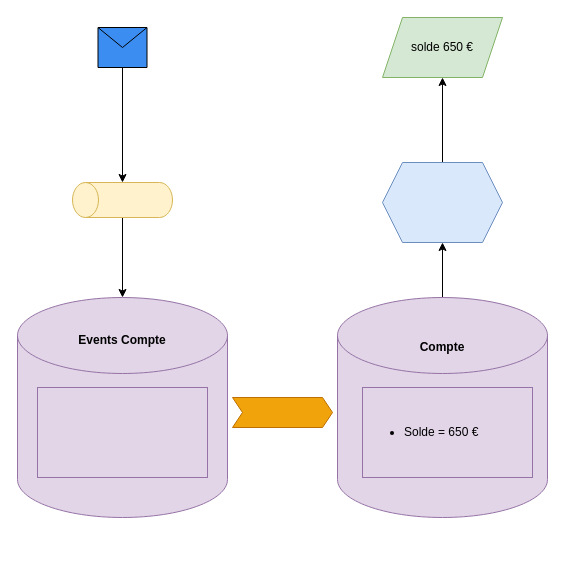
This 565x565 diagram has some shape labels left out. The shapes that lost their labels are listed below. From the top down, each one's box as (x1, y1, x2, y2) in pixels, then its label:
(382, 162, 502, 242): API
(36, 386, 208, 478): Overture compte Dépot 1000 € Retrait 250 € Retrait 100 €
